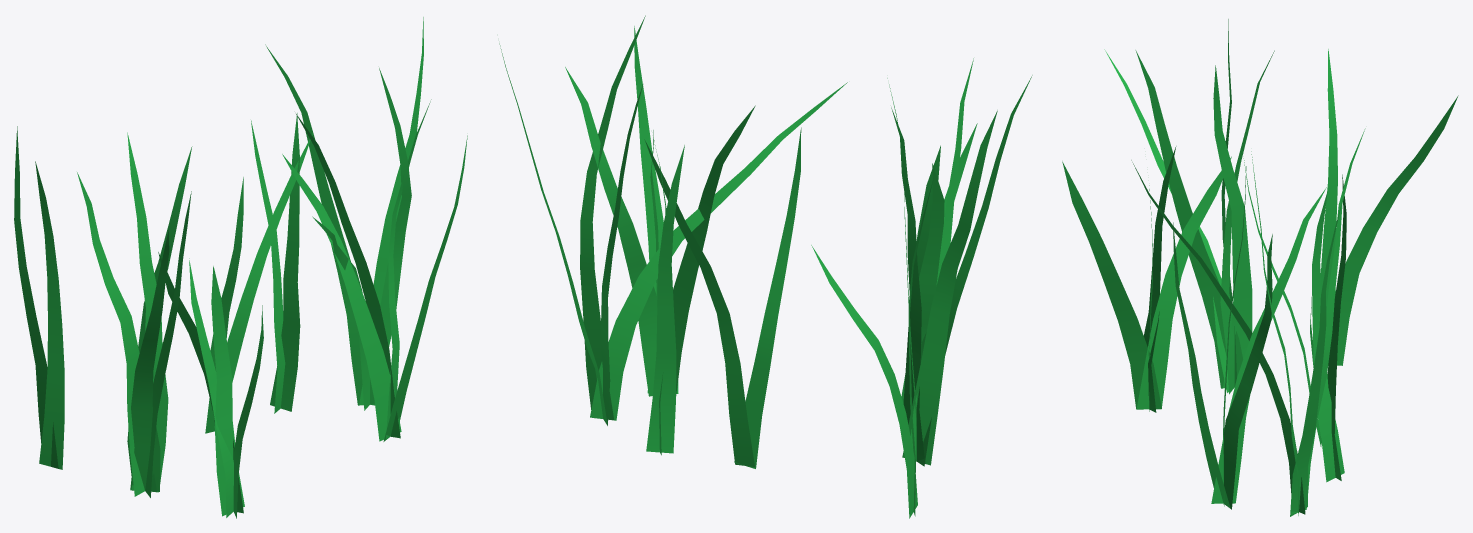
The model's file is coral_seagrass_B_ultralight.fbx.
3 views of the same model, side by side, from view 1: azimuth 30°, elevation 25°; view 2: azimuth 150°, elevation 25°; view 3: azimuth 270°, elevation 25° (orthographic). The views are drawn at different scales.
Parts seen in each view (by area): view 1: coral_seagrass_B_ultralight; view 2: coral_seagrass_B_ultralight; view 3: coral_seagrass_B_ultralight.
Boxes of the visible parts, <box> form: coral_seagrass_B_ultralight: <box>14,17,467,518</box>; coral_seagrass_B_ultralight: <box>499,15,1032,518</box>; coral_seagrass_B_ultralight: <box>1062,19,1458,516</box>.
Size of the model in its own units: 142 by 121 by 121.
